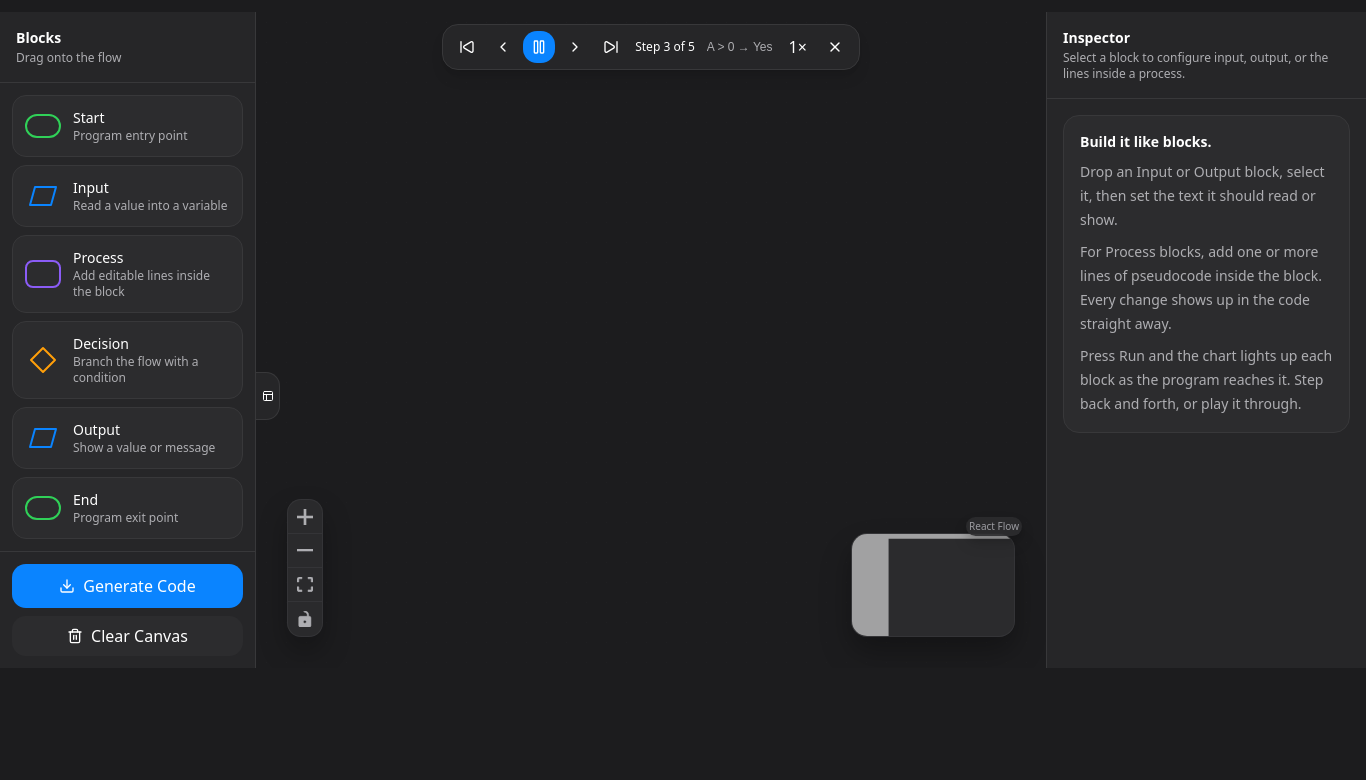
Test case: FlowchartEditor › replays a run block by block and steps through it
expect the text "Step 3 of 5" is shown: met, box x1=635 y1=39 x2=695 y2=55
expect the text with test id "flowchart-run-description" reads "A > 0 → Yes": met, box x1=707 y1=40 x2=772 y2=54
Click the button named "Last step". click: point(611, 47)
box: x1=595 y1=31 x2=627 y2=63
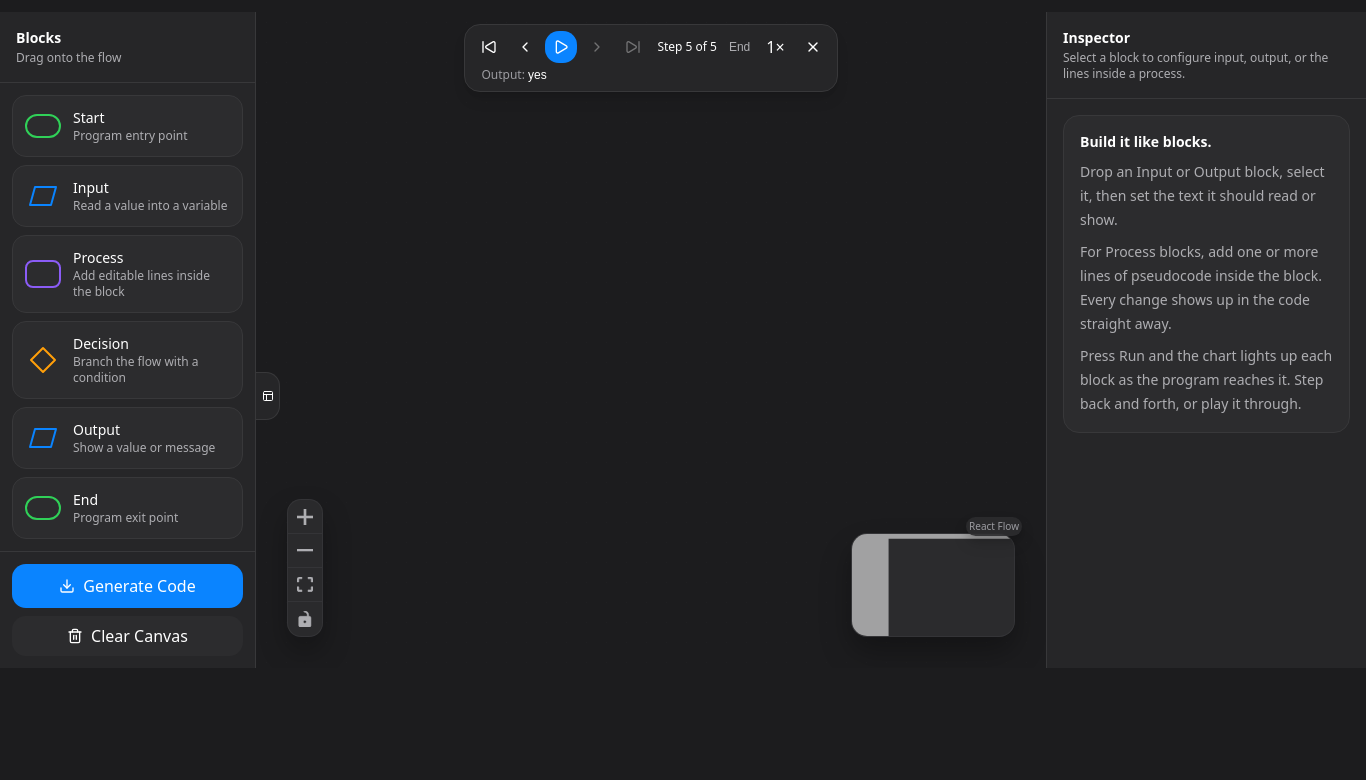
expect the text with test id "flowchart-run-output" reads "yes": met, box x1=528 y1=68 x2=547 y2=82
expect the text "Step 5 of 5" is shown: met, box x1=657 y1=39 x2=717 y2=55
Click the button named "Previous step". click: point(525, 47)
box: x1=509 y1=31 x2=541 y2=63
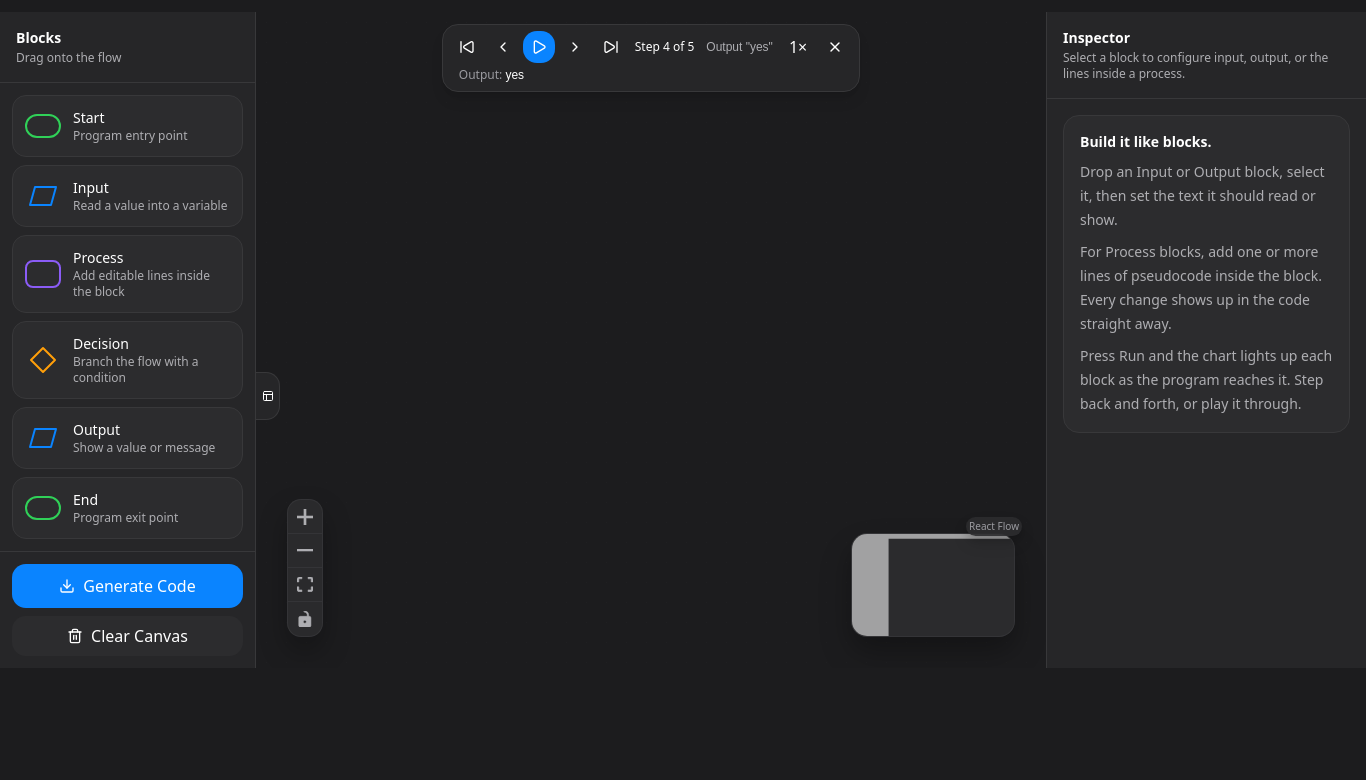
expect the text "Step 4 of 5" is shown: met, box x1=635 y1=39 x2=694 y2=55
Click the button named "Close the run". click: point(835, 47)
box: x1=819 y1=31 x2=851 y2=63
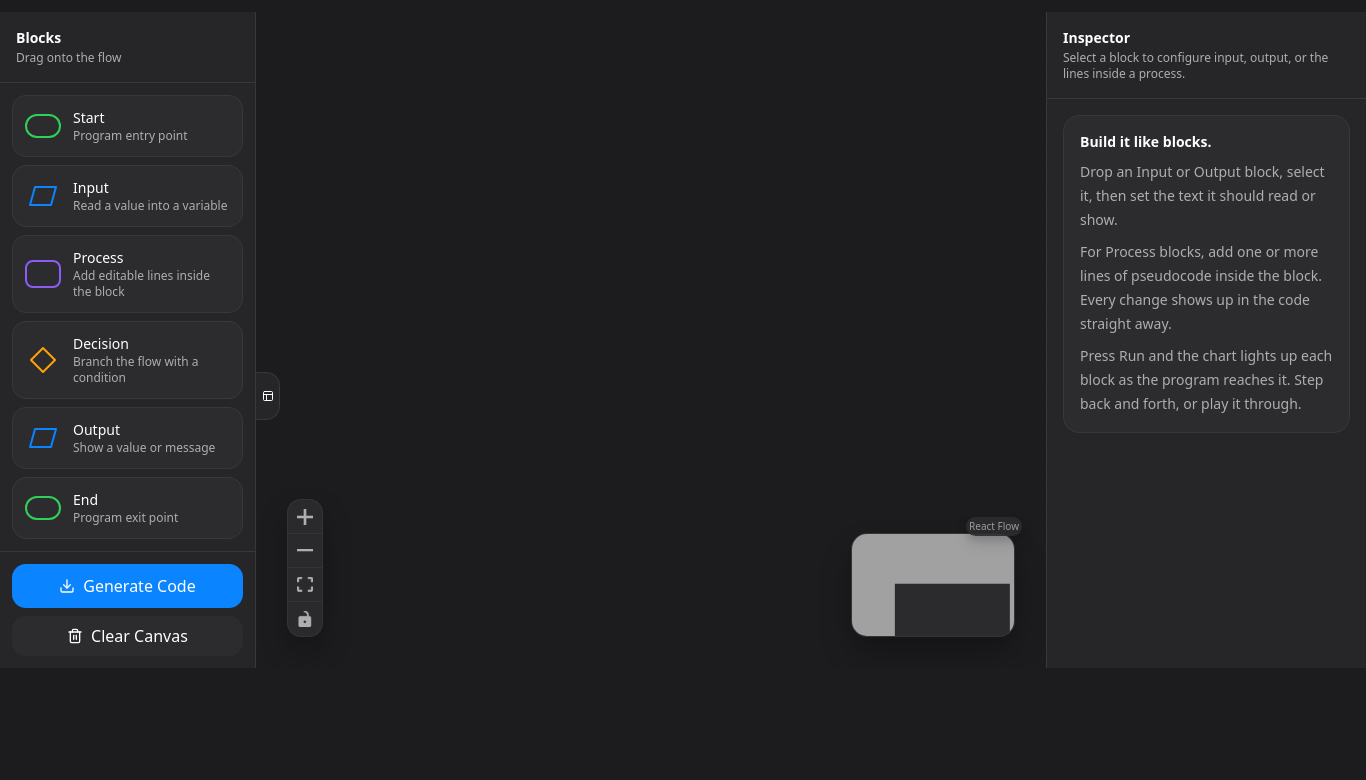
expect the text "Step 4 of 5" is gone: met
